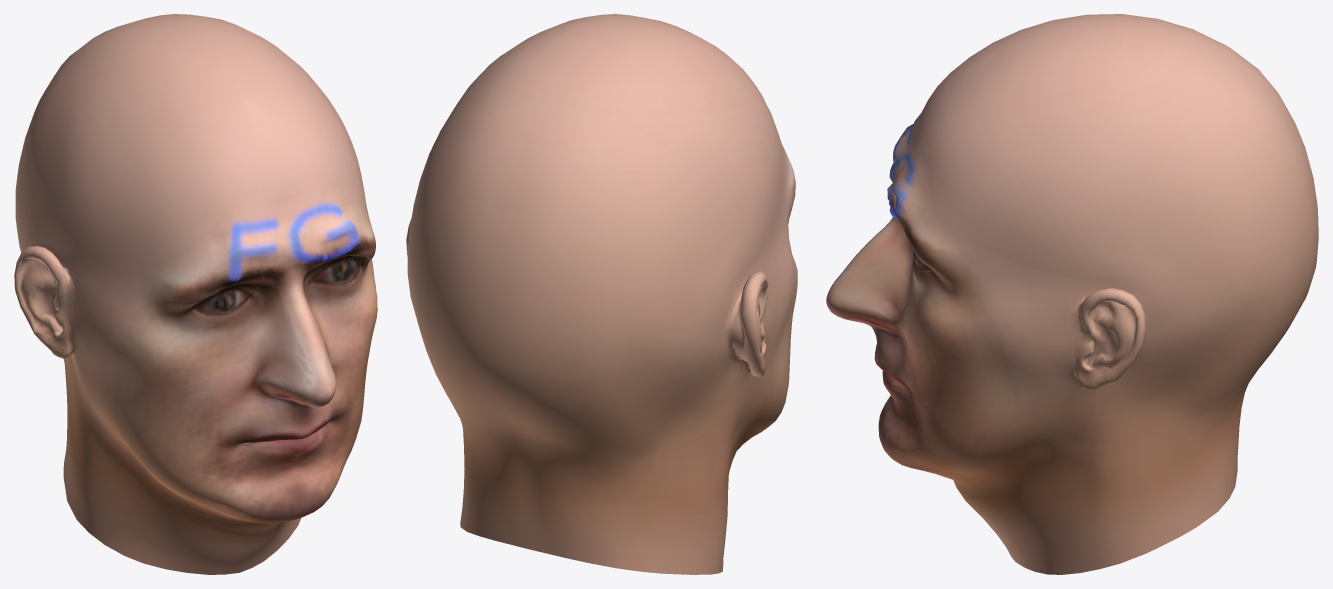
File: MaleFaced17.obj
3 renders of one model, left to right at view 1: azimuth 30°, elevation 25°; view 2: azimuth 150°, elevation 25°; view 3: azimuth 270°, elevation 25°, orthographic. The views are drawn at different scales.
Parts seen in each view (by area): view 1: HeadHires; view 2: HeadHires; view 3: HeadHires.
Part boxes in pixels (x1,y1,x2,y2): HeadHires: (14, 14, 377, 574); HeadHires: (406, 14, 797, 574); HeadHires: (826, 14, 1318, 574).
Size of the model in its own units: 190 by 283 by 242.
